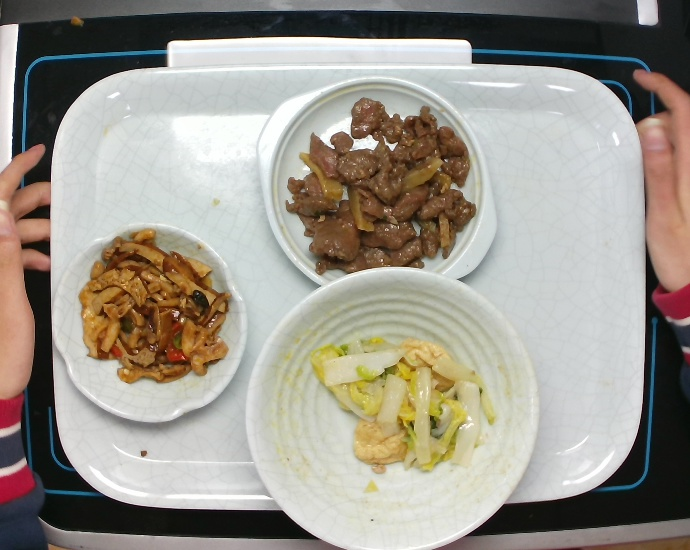JYsf-Ao_Yuan_Wan: (51, 219, 247, 426)
JYsf-Shuang_Er_Pan: (253, 77, 499, 296)
JYsf-Xiao_Tang_Wan: (245, 264, 541, 550)
